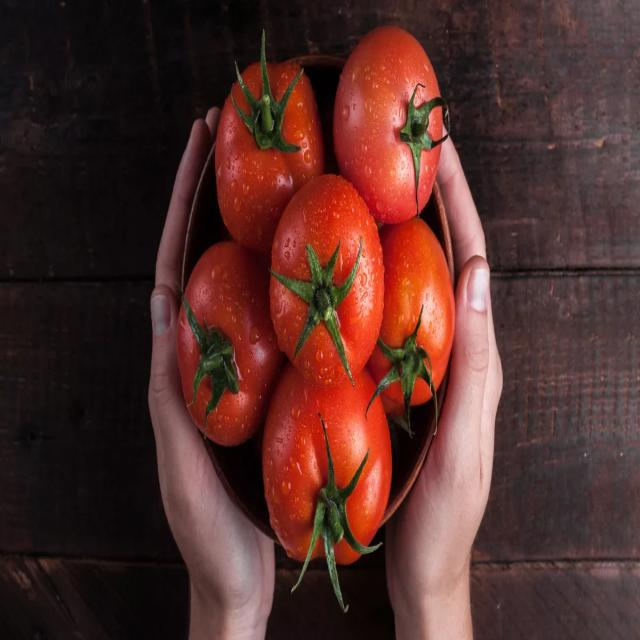tomatoes: (264, 366, 392, 562), (272, 172, 384, 385), (334, 24, 443, 225), (214, 50, 320, 251), (178, 239, 268, 447), (383, 220, 455, 408)
